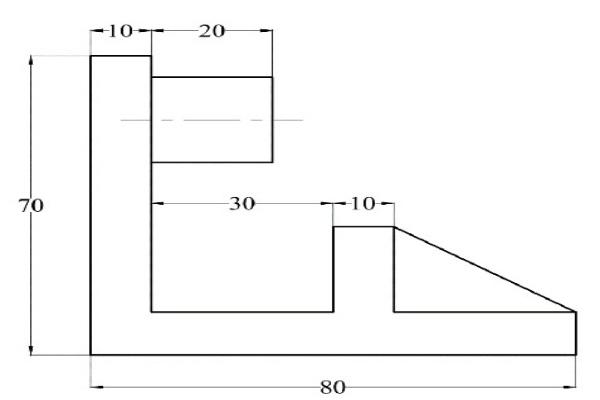dimensions: (194, 17, 227, 41), (16, 193, 49, 217), (349, 191, 378, 216), (319, 374, 349, 398), (226, 193, 258, 211), (108, 21, 138, 40)
